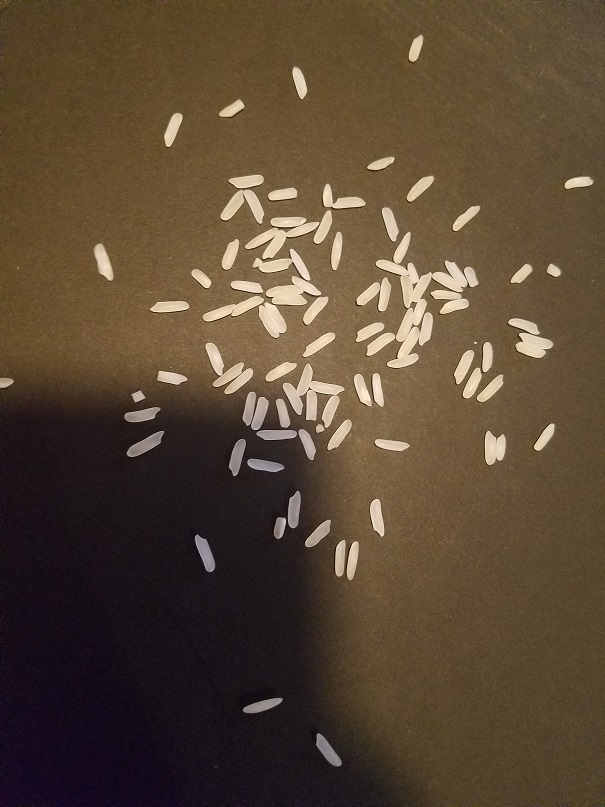egg: (313, 731, 343, 770), (126, 429, 166, 457), (301, 331, 336, 358), (193, 532, 216, 573), (219, 188, 246, 222), (451, 203, 481, 233), (242, 188, 266, 225), (242, 227, 279, 251), (211, 361, 245, 387), (240, 696, 284, 716), (303, 518, 332, 548), (476, 374, 507, 402), (301, 293, 328, 325), (162, 111, 185, 148), (396, 325, 421, 359), (223, 368, 254, 395), (261, 228, 287, 260), (452, 349, 475, 385), (327, 418, 352, 451), (364, 331, 397, 356), (93, 243, 115, 280), (288, 248, 313, 280), (257, 303, 279, 339), (406, 174, 434, 202), (264, 360, 299, 382), (231, 295, 264, 318), (282, 382, 304, 416), (444, 258, 468, 289), (228, 437, 247, 476), (380, 206, 400, 242), (507, 315, 541, 336), (265, 301, 287, 333), (313, 210, 333, 245), (204, 341, 224, 376), (353, 371, 373, 406), (412, 270, 433, 303), (462, 367, 483, 400), (250, 396, 270, 430), (321, 395, 341, 429), (395, 307, 415, 341), (219, 238, 240, 270), (533, 423, 556, 452), (202, 303, 237, 322), (393, 229, 412, 264), (246, 456, 285, 473), (432, 270, 462, 292), (123, 406, 163, 422), (518, 331, 553, 349), (309, 378, 346, 395), (377, 276, 394, 313), (369, 498, 385, 537), (257, 257, 293, 274), (286, 220, 320, 238), (438, 297, 472, 315), (298, 428, 317, 460), (291, 275, 321, 295), (218, 97, 244, 120), (376, 258, 409, 276), (296, 363, 314, 396), (515, 341, 547, 359), (356, 282, 381, 305), (373, 437, 411, 452), (266, 283, 304, 298), (356, 322, 386, 341), (387, 352, 420, 369), (287, 489, 301, 529), (330, 228, 343, 271), (227, 173, 264, 188), (509, 262, 533, 285), (347, 541, 361, 580), (156, 369, 188, 386), (275, 396, 292, 428), (242, 390, 257, 426), (149, 300, 190, 313), (408, 32, 425, 63), (291, 66, 307, 98), (231, 279, 264, 294), (484, 428, 497, 466), (256, 429, 297, 441), (371, 372, 385, 407), (420, 312, 434, 346), (335, 538, 347, 577), (267, 187, 298, 202), (366, 156, 395, 172), (562, 176, 592, 191), (333, 196, 367, 209), (191, 268, 212, 289), (400, 273, 412, 309), (269, 294, 308, 305), (412, 298, 427, 326), (462, 266, 481, 288), (271, 216, 307, 227), (305, 389, 317, 421), (482, 340, 493, 372), (321, 182, 334, 208), (273, 516, 287, 540), (430, 289, 462, 299), (497, 432, 507, 461), (407, 263, 420, 283), (129, 388, 147, 402), (545, 262, 561, 277), (1, 378, 14, 390), (251, 258, 262, 268), (314, 423, 324, 432)
